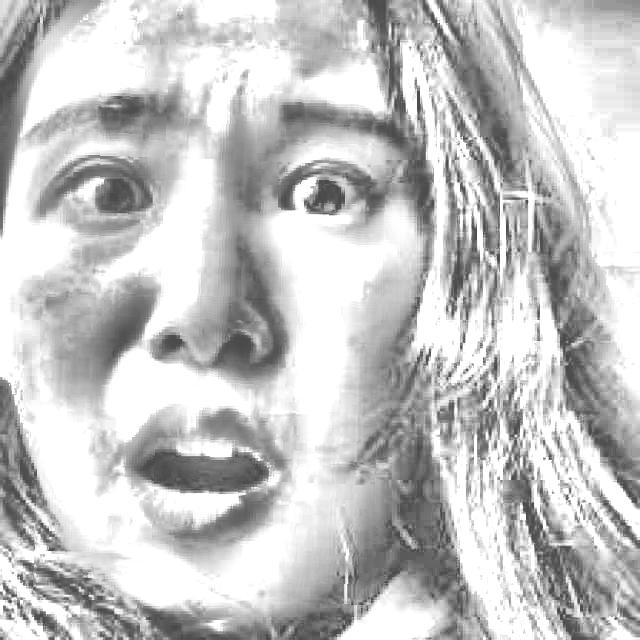fear: (38, 45, 386, 603)
